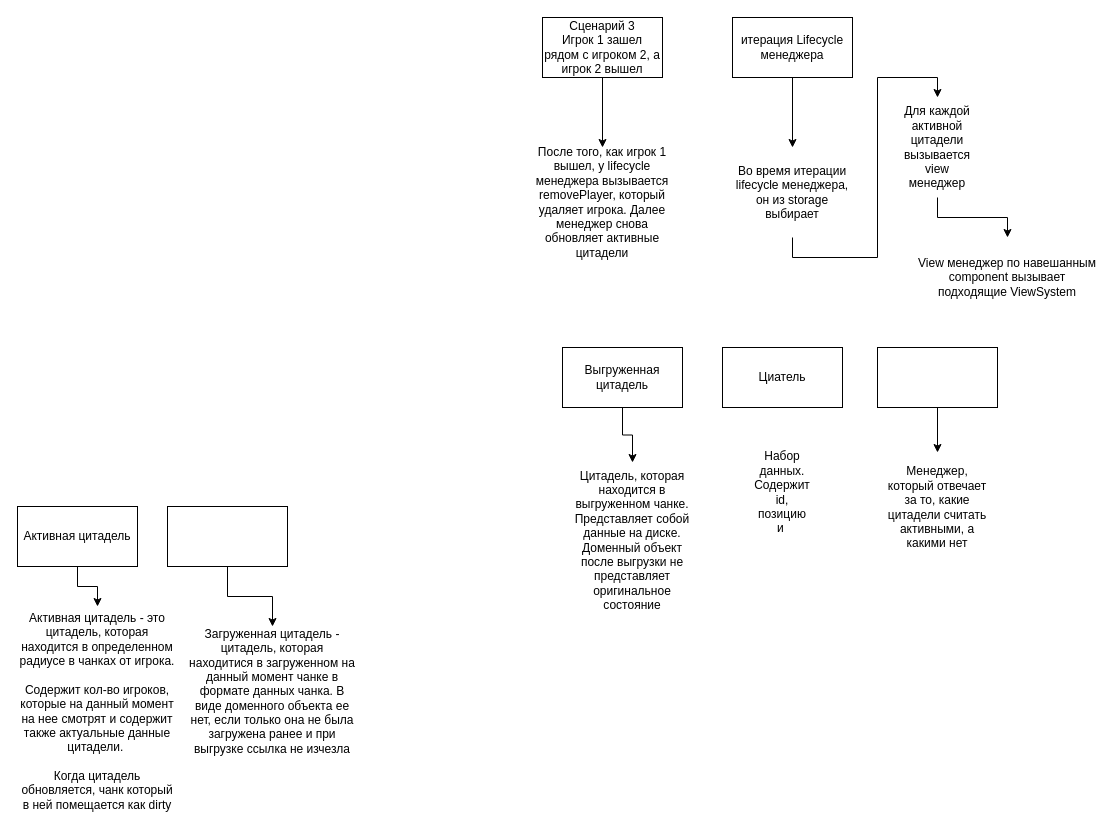
Some shapes in this 1120 by 834 pixel diagram are drawn without their labels. Each missing label, with the box of its shape:
Lifecycle менеджер: (876, 346, 998, 408)
Загруженная цитадель: (166, 506, 288, 566)
